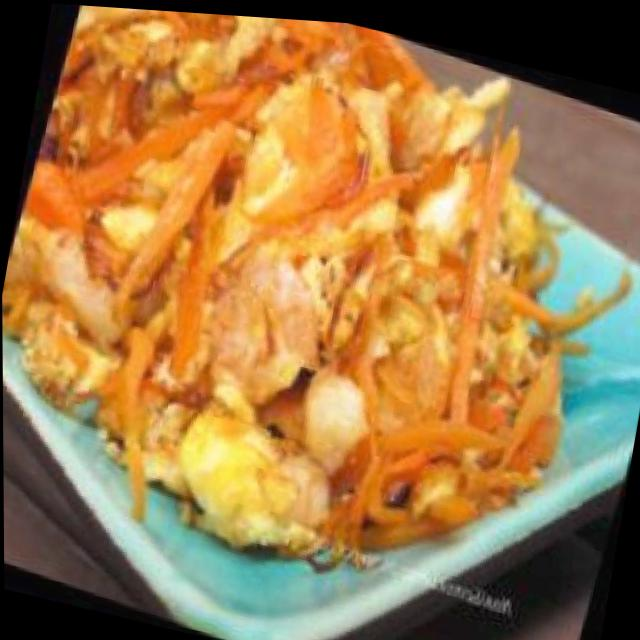carrot_eggs: (0, 0, 640, 629)
